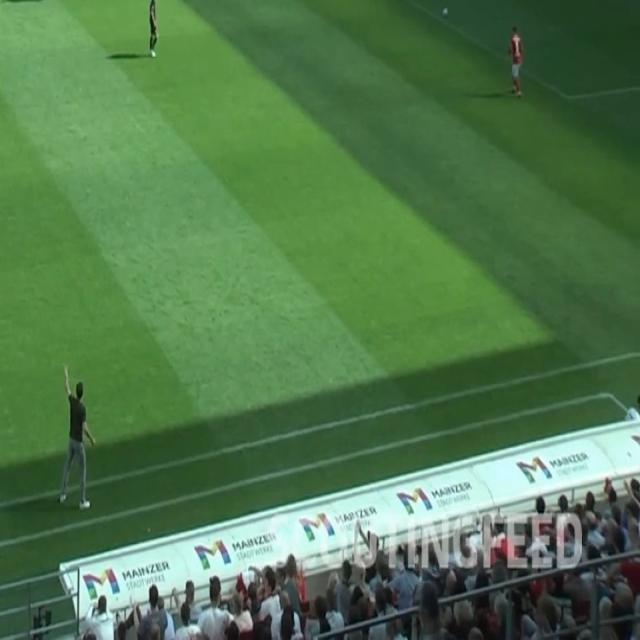ball: (442, 7, 448, 16)
